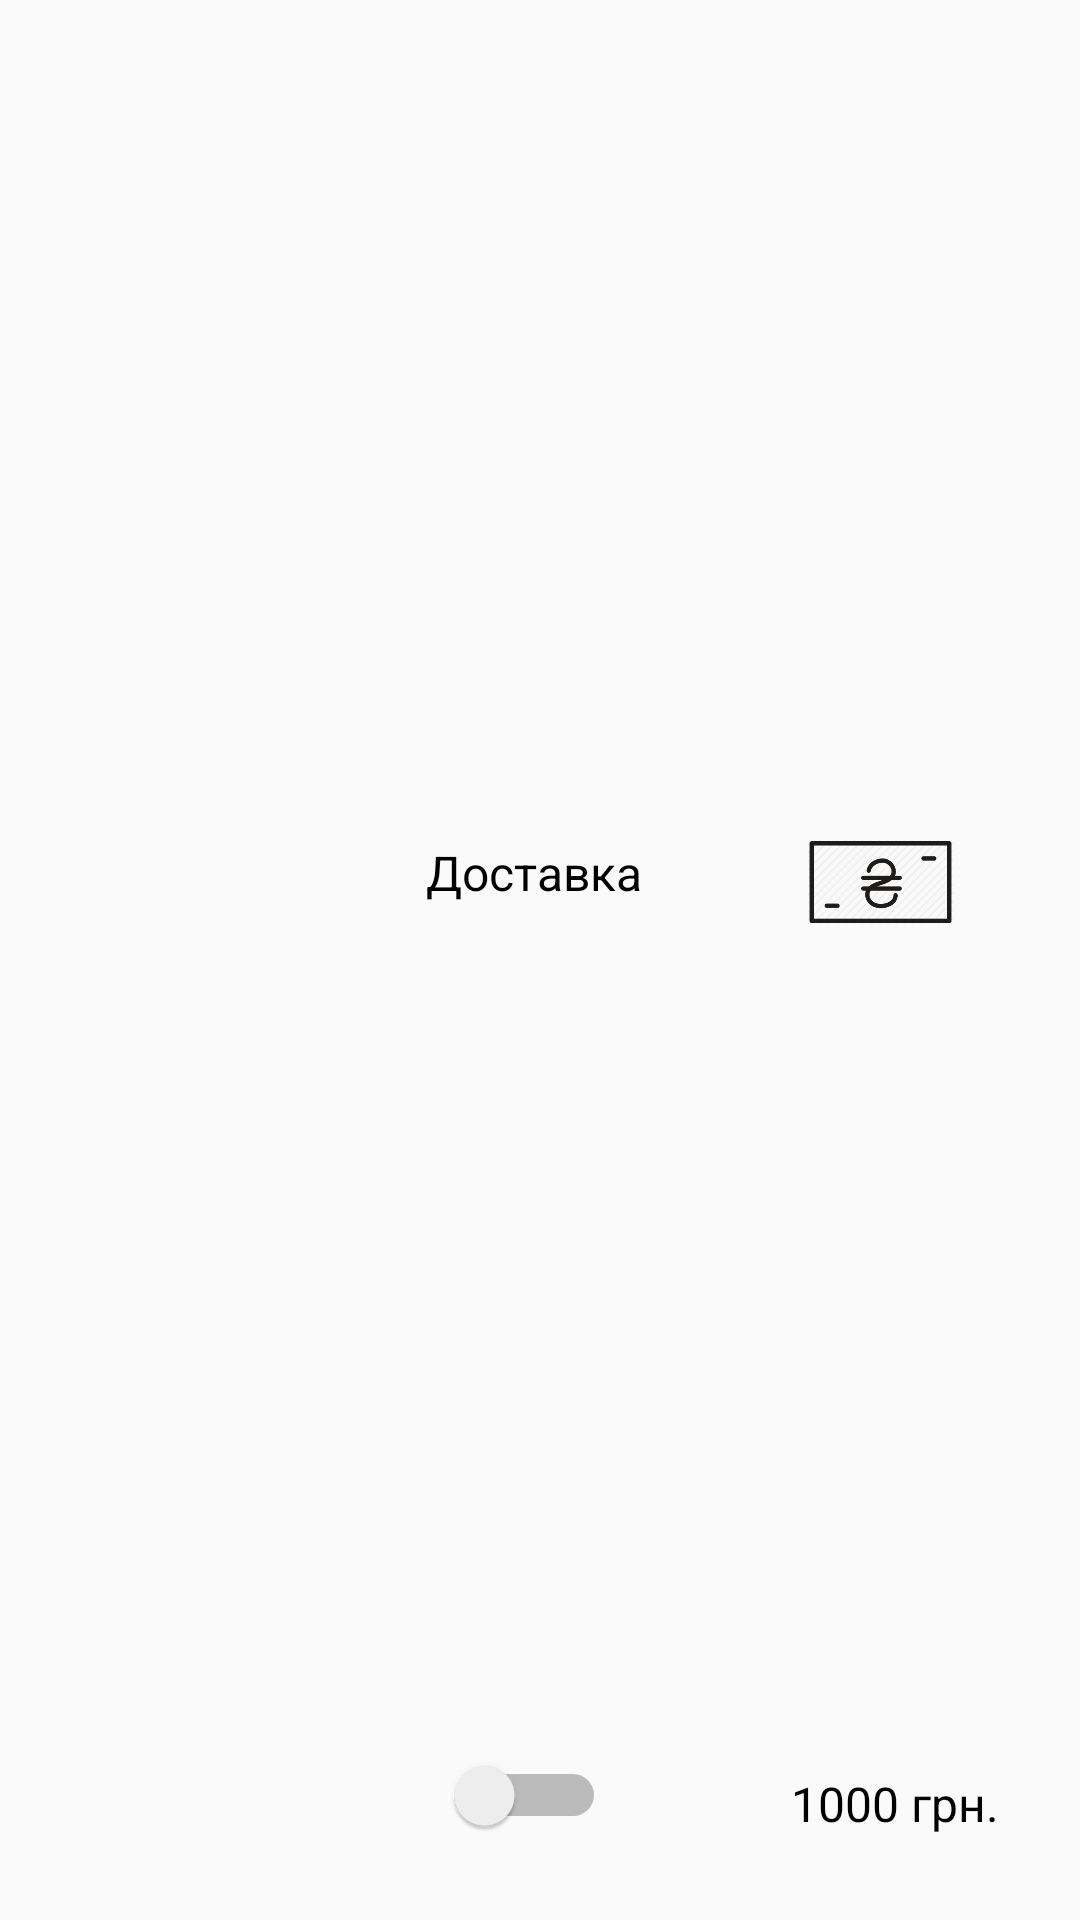

Screen size 1080×1920. Icon name, then its box in pixels as rect(x1, y1, x2, y2):
hryvna: rect(809, 841, 952, 923)
